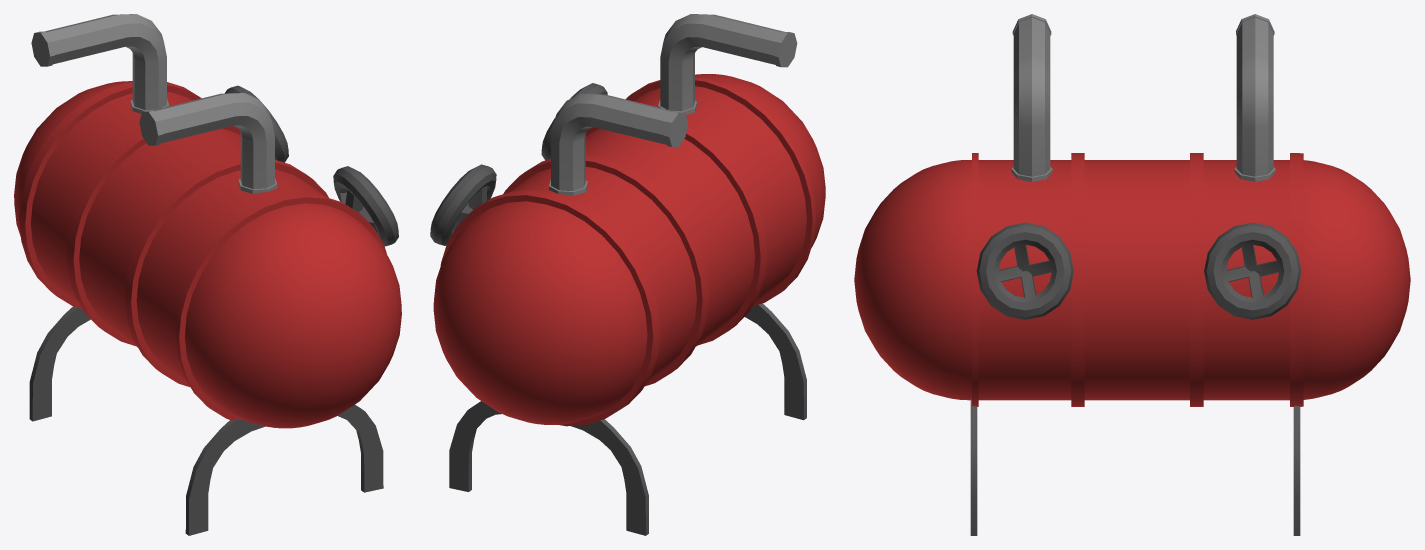
The model's file is gas.fbx.
3 renders of one model, left to right at view 1: azimuth 30°, elevation 25°; view 2: azimuth 150°, elevation 25°; view 3: azimuth 270°, elevation 25°, orthographic. The views are drawn at different scales.
Visible parts, largest first — view 1: Gas; view 2: Gas; view 3: Gas.
Part boxes in pixels (x1,y1,x2,y2): Gas: [14, 14, 401, 535]; Gas: [430, 14, 825, 535]; Gas: [854, 14, 1410, 535].
Size of the model in its own units: 142 by 233 by 281.
